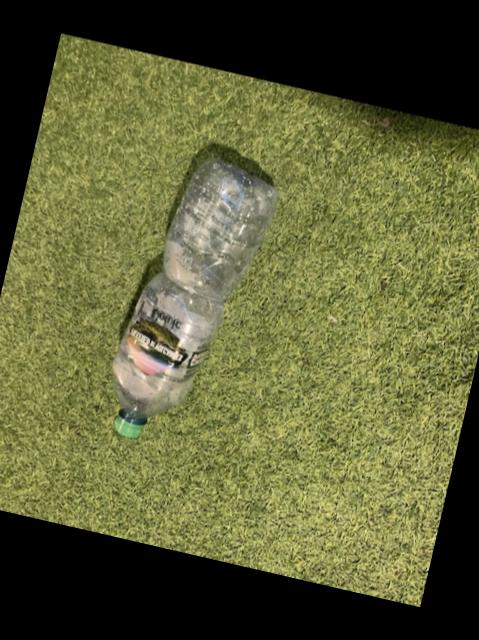plastic: (109, 157, 273, 436)
